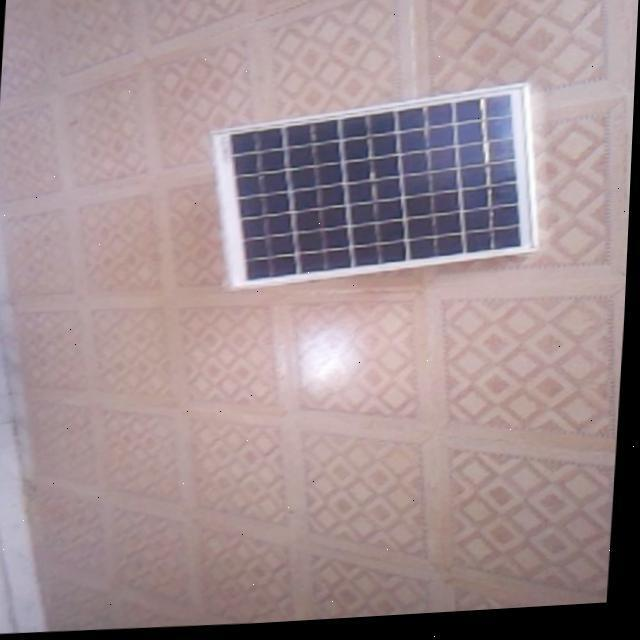Normal Solar Panel: (206, 82, 548, 296)
